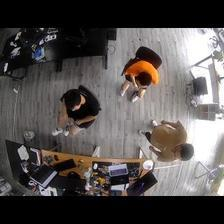normal: (141, 116, 196, 164), (53, 85, 99, 136), (115, 52, 158, 98)
